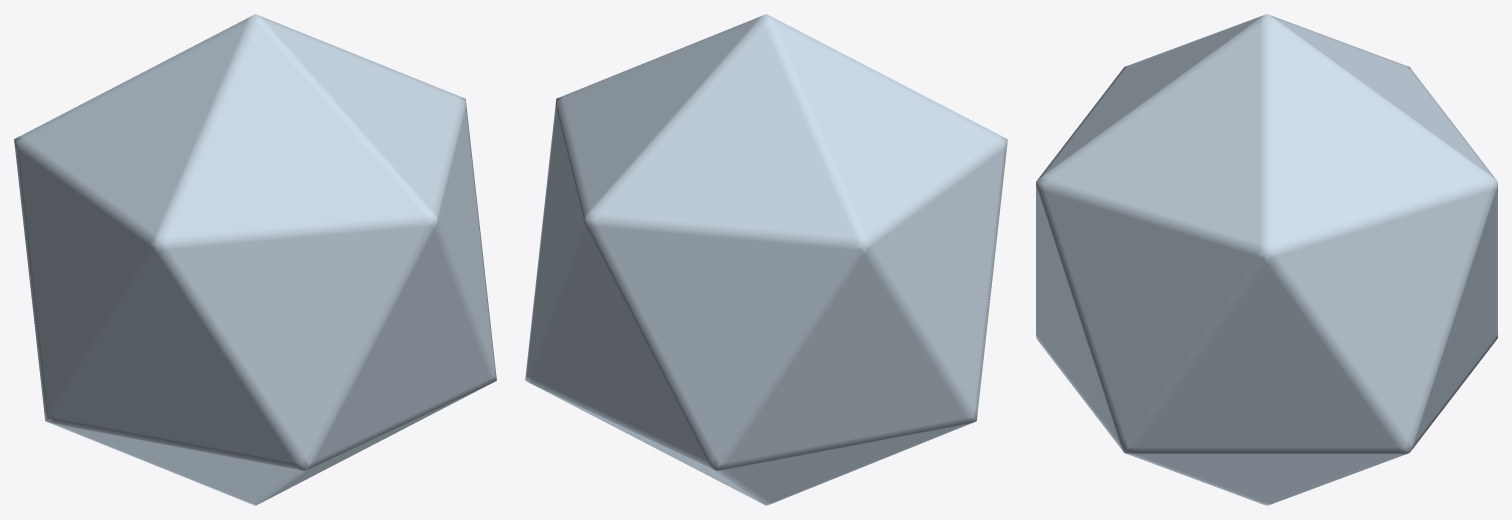
File: model-diamond-new.gltf
The picture shows the model from 3 angles, left to right: view 1: azimuth 30°, elevation 25°; view 2: azimuth 150°, elevation 25°; view 3: azimuth 270°, elevation 25°; orthographic projection.
Visible parts, largest first — view 1: Icosphere; view 2: Icosphere; view 3: Icosphere.
Part boxes in pixels (x1,y1,x2,y2): Icosphere: (14, 14, 496, 505); Icosphere: (525, 14, 1007, 505); Icosphere: (1036, 14, 1497, 505).
Bounding box in the file's own units: 1.35 × 1.51 × 1.28.
